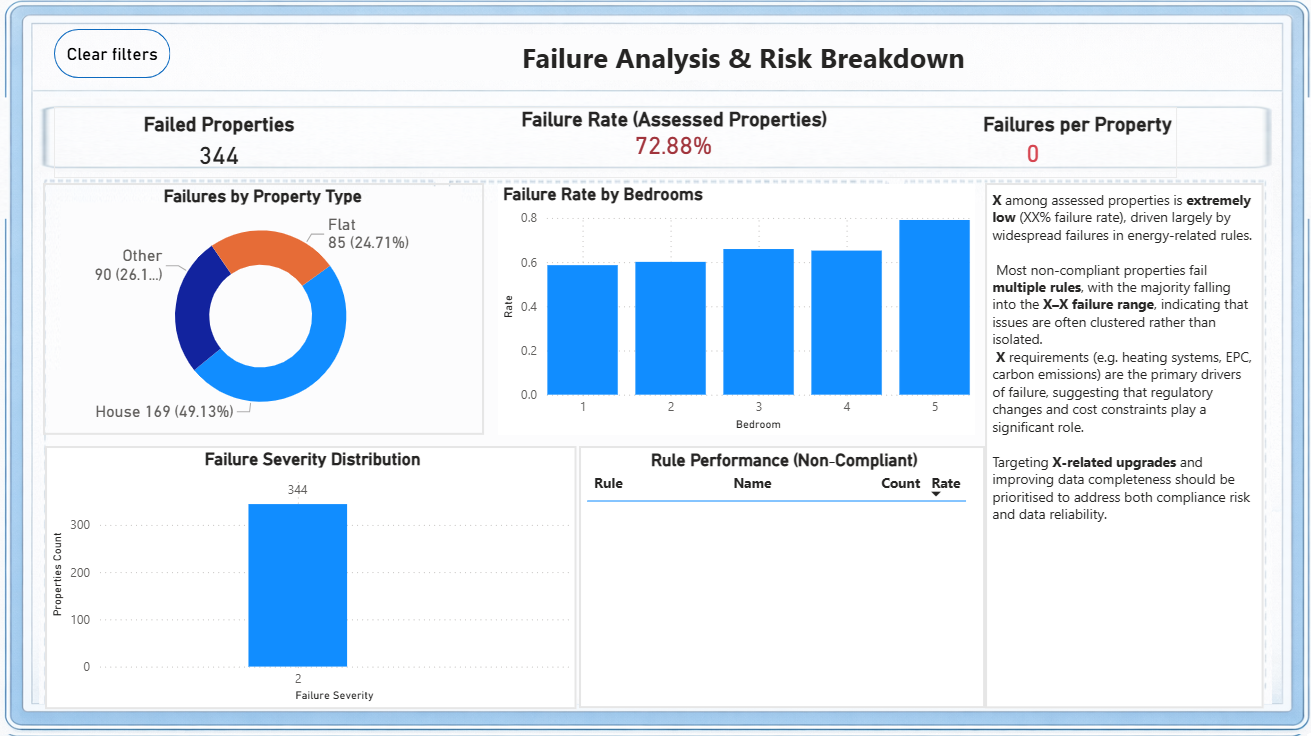

Layout of this report page (visuals, bound fields, positions):
{"tool":"powerbi","page":{"name":"Failed Properties","canvas":[1280,720],"ordinal":2},"visuals":[{"type":"textbox","box":[197.6,36.7,1055.2,48.5],"z":0},{"type":"cardVisual","title":"Failed Properties","fields":{"Data":["WHQS2023.Properties Count"]},"box":[54.4,113.5,321.2,65],"z":0,"group":"g1"},{"type":"columnChart","title":"Failure Severity Distribution","fields":{"Category":["WHQS2023.Failure Severity Sort"],"Y":["WHQS2023.Properties Count"]},"box":[45.6,438.9,516.7,255.6],"z":1000},{"type":"donutChart","title":"Failures by Property Type","fields":{"Y":["CountNonNull(WHQS2023.Failure Count)"],"Category":["WHQS2023.Properies type"]},"box":[43.6,182.7,428.5,244.9],"z":2000,"group":"g4"},{"type":"tableEx","title":"Rule Performance (Non‑Compliant)","fields":{"Values":["Rules.RuleKey","Rules.Rule Name","Rules.Failures per Rule","Parts.% Failed per Rule"]},"box":[565.2,438.7,394.8,255.5],"z":2000},{"type":"group","id":"g1","title":"Group 6","box":[54.4,109,1092.6,69.5],"z":3000},{"type":"group","id":"g2","title":"Group 2","box":[866.9,113.5,280.1,61.2],"z":3000,"group":"g1"},{"type":"group","id":"g3","title":"Group 1","box":[461,109,393,55.2],"z":4000,"group":"g1"},{"type":"group","id":"g4","title":"Group 4","box":[43.6,182.7,428.5,244.9],"z":4000},{"type":"shape","title":"Clear Fil","box":[54.4,33.3,113.3,47.8],"z":5000},{"type":"textbox","box":[960,183.2,271,511],"z":6000},{"type":"cardVisual","title":"Failures per Property","fields":{"Data":["Median(WHQS2023.Failure Count)"]},"box":[866.9,113.5,280.1,61.2],"z":7000,"group":"g2"},{"type":"clusteredColumnChart","title":"Failure Rate by Bedrooms","fields":{"Y":["WHQS2023.Failure Rate by Bedrooms"],"Category":["WHQS2023.Bedrooms"]},"box":[486.8,183.5,463.8,243.9],"z":7000},{"type":"cardVisual","title":"Failure Rate (Assessed Properties)","fields":{"Data":["WHQS2023.Percent_Failed"]},"box":[461,109,393,55.2],"z":9000,"group":"g3"}]}

Visuals, with their boxes in screenshot pixels (x1, y1, x2, y2), scaled from the page's 1280x720 canvas onto the 1311x736 screenshot:
textbox: 202/38/1283/87
"Failed Properties" cardVisual: 56/116/385/182
"Failure Severity Distribution" columnChart: 47/449/576/710
"Failures by Property Type" donutChart: 45/187/484/437
"Rule Performance (Non‑Compliant)" tableEx: 579/448/983/710
"Group 6" group: 56/111/1175/182
"Group 2" group: 888/116/1175/179
"Group 1" group: 472/111/875/168
"Group 4" group: 45/187/484/437
"Clear Fil" shape: 56/34/172/83
textbox: 983/187/1261/710
"Failures per Property" cardVisual: 888/116/1175/179
"Failure Rate by Bedrooms" clusteredColumnChart: 499/188/974/437
"Failure Rate (Assessed Properties)" cardVisual: 472/111/875/168
